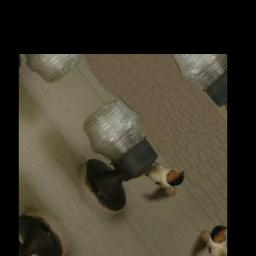Swallow: (130, 150, 193, 213)
